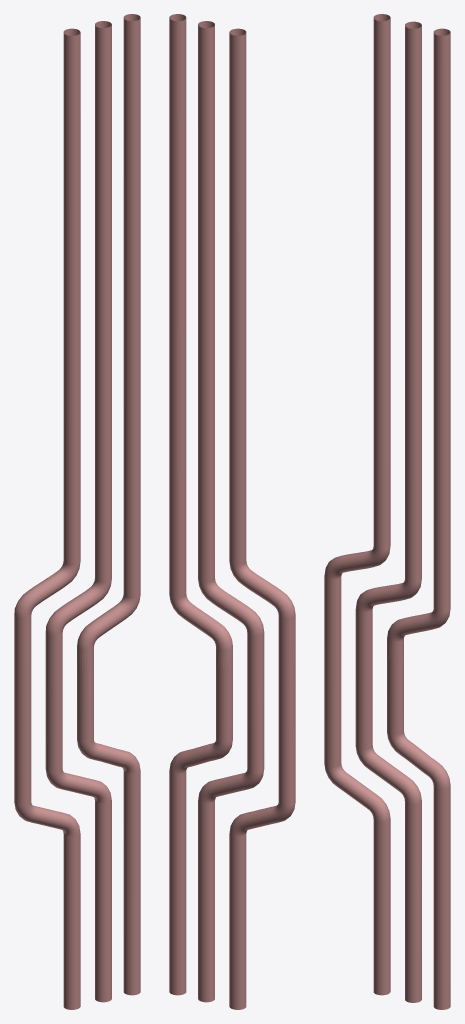
Rendered from Pipe_Vertical_Thin_2.fbx.
The picture shows the model from 3 angles, left to right: view 1: azimuth 30°, elevation 25°; view 2: azimuth 150°, elevation 25°; view 3: azimuth 330°, elevation 25°; orthographic projection.
Parts seen in each view (by area): view 1: Pipe_Vertical_Thin_2; view 2: Pipe_Vertical_Thin_2; view 3: Pipe_Vertical_Thin_2.
Part boxes in pixels (x1=…): Pipe_Vertical_Thin_2: x1=14, y1=14, x2=140, y2=1009; Pipe_Vertical_Thin_2: x1=169, y1=14, x2=295, y2=1009; Pipe_Vertical_Thin_2: x1=324, y1=14, x2=450, y2=1009.
Bounding box in the file's own units: 41.25 × 309 × 4.93.
